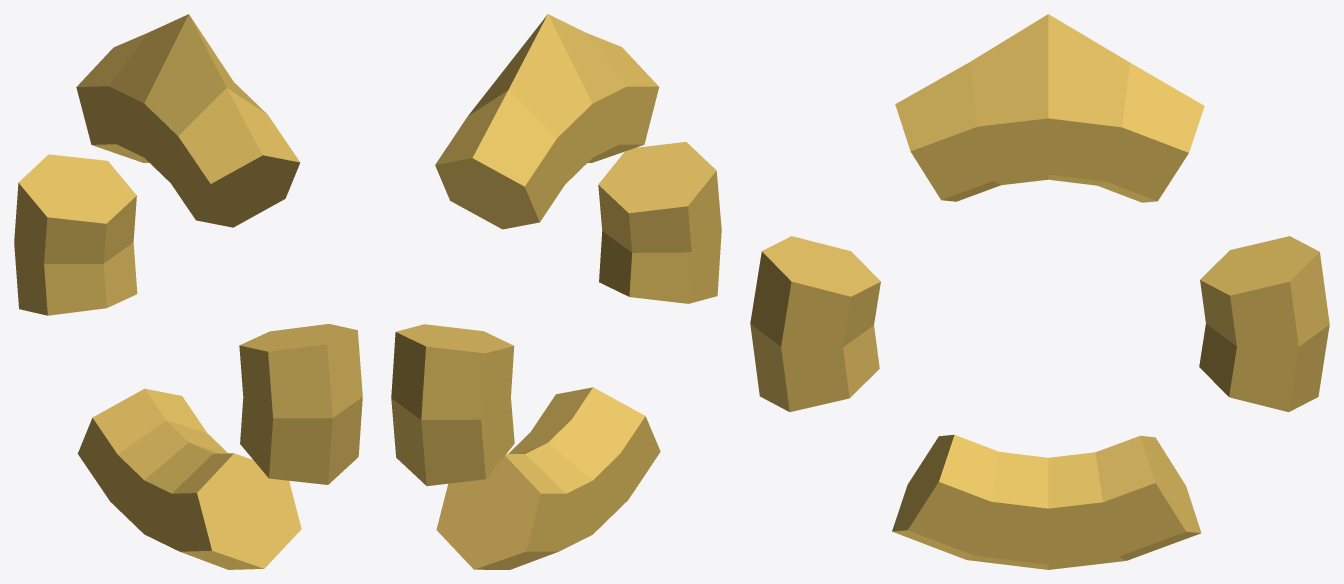
The model's file is arrow.glb.
3 views of the same model, side by side, from view 1: azimuth 30°, elevation 25°; view 2: azimuth 150°, elevation 25°; view 3: azimuth 270°, elevation 25° (orthographic). The views are drawn at different scales.
Visible parts, largest first — view 1: Torus; view 2: Torus; view 3: Torus.
Boxes of the visible parts, x1=… form: Torus: x1=14, y1=14, x2=362, y2=569; Torus: x1=391, y1=14, x2=721, y2=569; Torus: x1=750, y1=14, x2=1329, y2=569.
Bounding box in the file's own units: 0.4776 × 2.48 × 2.34.
